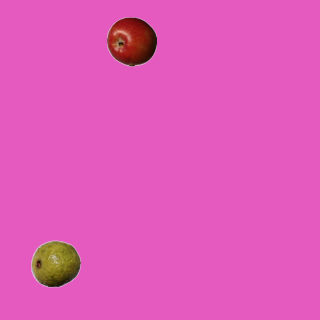Apple Braeburn: (106, 16, 156, 66)
Guava: (30, 238, 80, 288)
